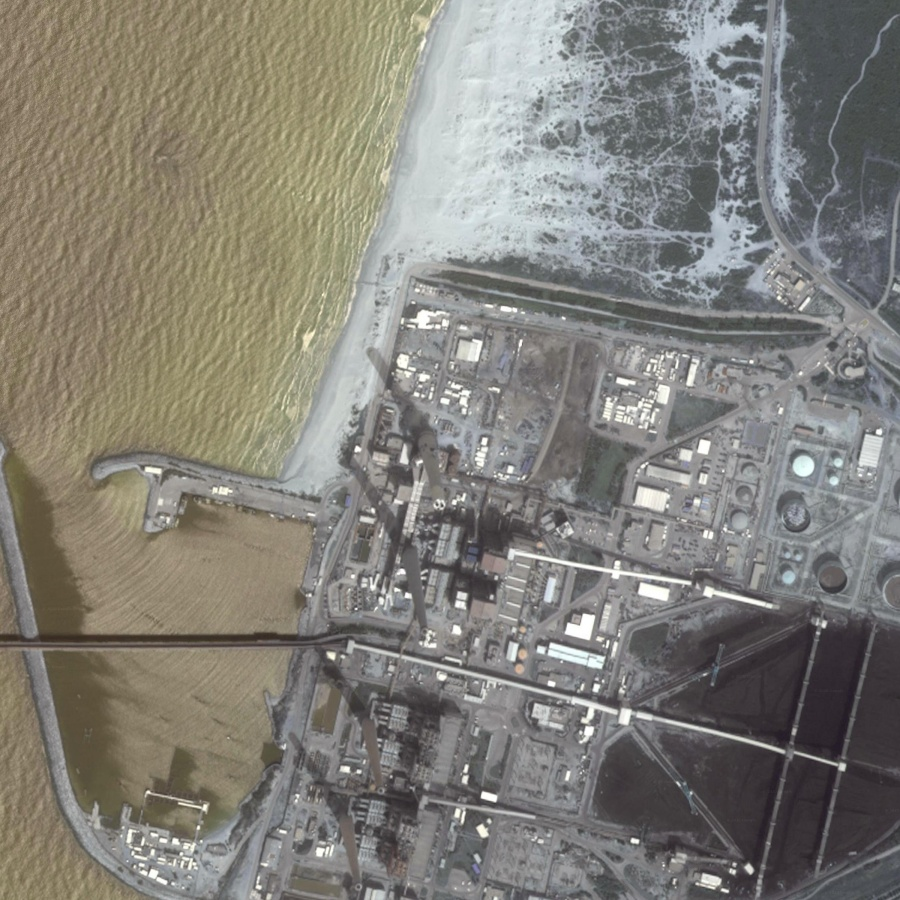PowerPlant: (255, 477, 516, 898)
